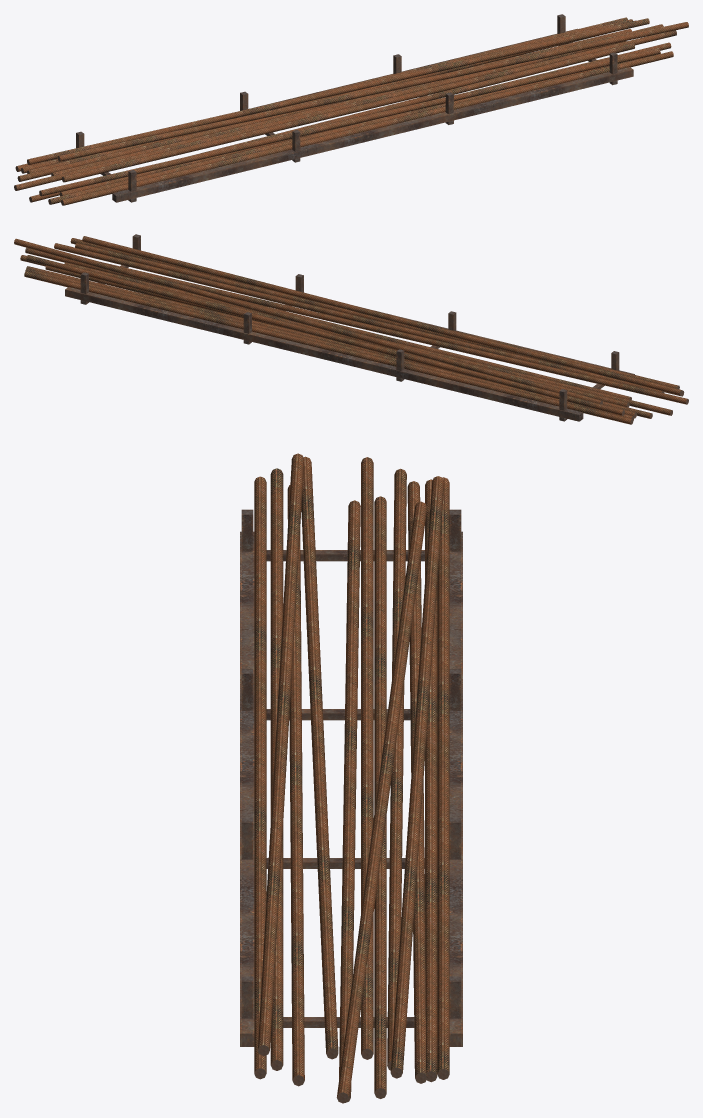
The model's file is Con_bar2.fbx.
The picture shows the model from 3 angles, top to bottom: view 1: azimuth 30°, elevation 25°; view 2: azimuth 150°, elevation 25°; view 3: azimuth 270°, elevation 25°; orthographic projection. The views are drawn at different scales.
Visible parts, largest first — view 1: SM_ReinforcementBar04; view 2: SM_ReinforcementBar04; view 3: SM_ReinforcementBar04.
Part boxes in pixels (bbox=[...]): SM_ReinforcementBar04: bbox=[14, 14, 688, 205]; SM_ReinforcementBar04: bbox=[14, 234, 688, 424]; SM_ReinforcementBar04: bbox=[240, 453, 462, 1103].
Size of the model in its own units: 5.46 by 0.2303 by 0.7967.
1 material, 1 textured.
